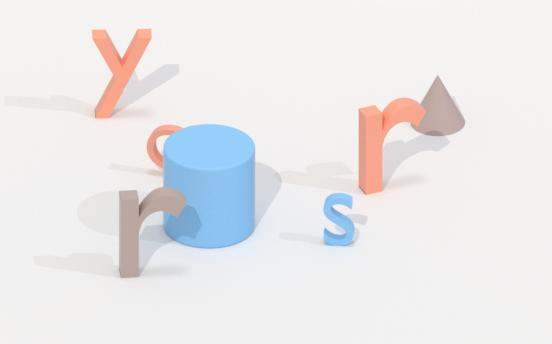R: (351, 99, 440, 199), (114, 189, 200, 282)
Y: (84, 26, 159, 120)
non: (409, 73, 471, 140)
s: (319, 191, 361, 249)
tru: (158, 125, 256, 249)
